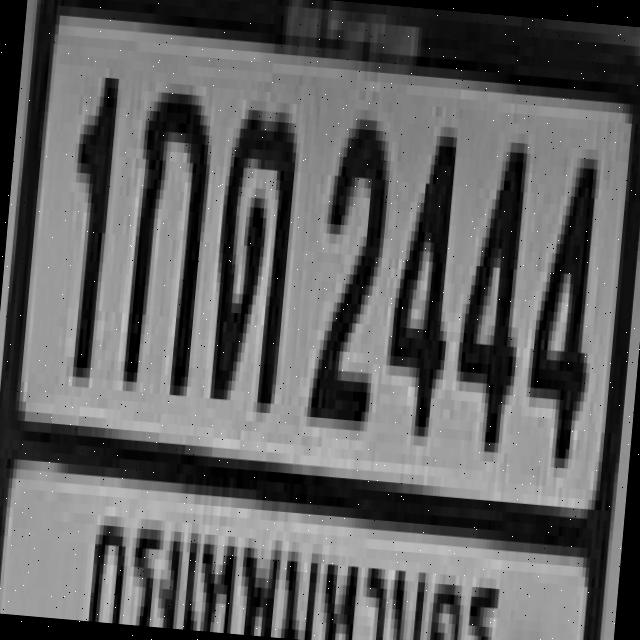1: (56, 65, 116, 368)
10GorGai: (120, 81, 212, 386)
2: (308, 108, 390, 412)
30TorTao: (206, 98, 296, 394)
4: (448, 129, 532, 443), (520, 145, 602, 459), (381, 114, 462, 428)
Bangkok: (82, 495, 510, 640)
